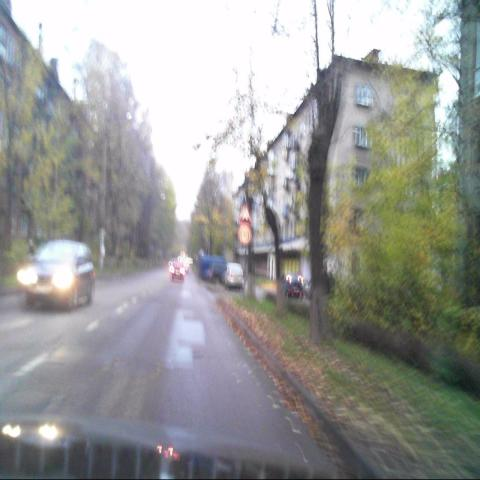1_16: (240, 204, 252, 225)
